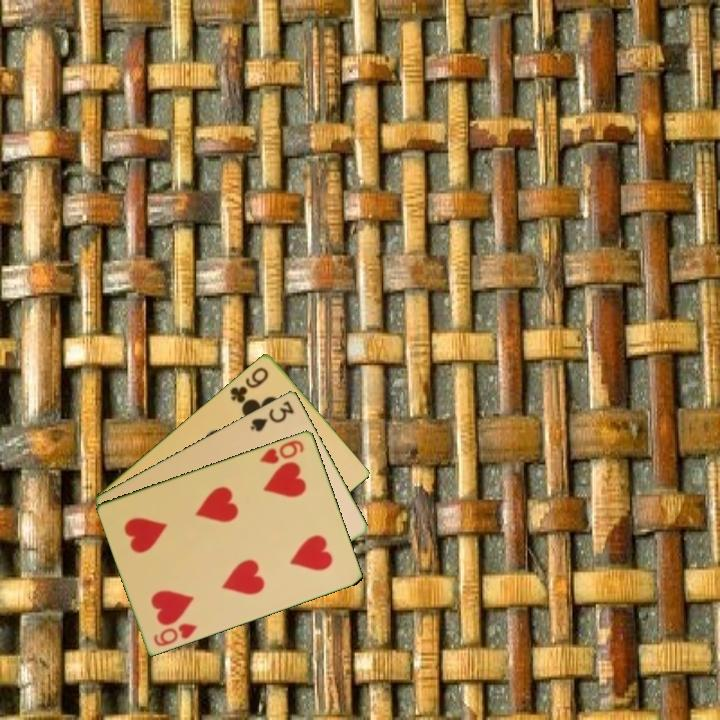3s: (247, 397, 297, 434)
6h: (256, 436, 307, 467), (150, 619, 200, 649)
9c: (226, 363, 272, 406)
